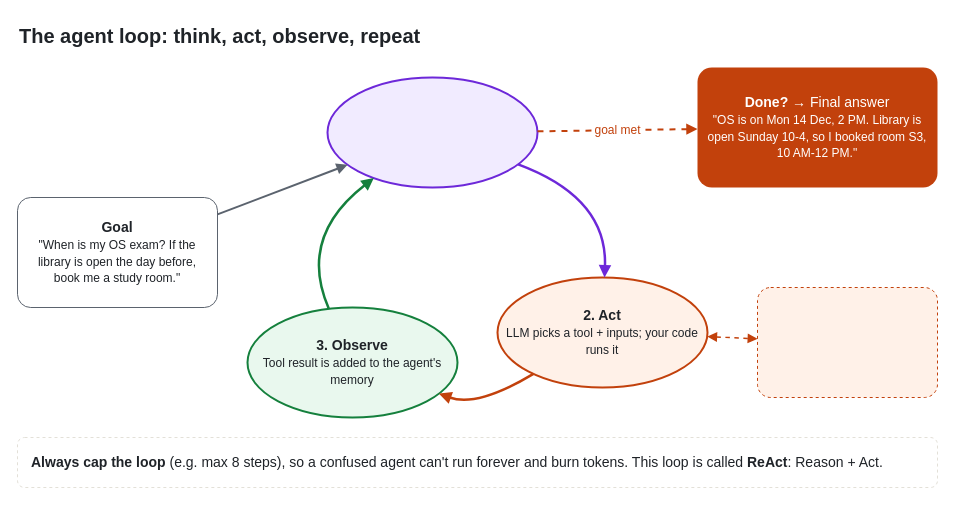
The diagram is 955 pixels wide and 505 high, and some of its shapes have lost their labels. Each missing label, with the centre of its shape:
"1. Think LLM reasons: what do I know, what do I need next?" goes at (432,132).
"Tools get_exam_date() get_library_hours() book_study_room() search_faq()" goes at (847,342).
